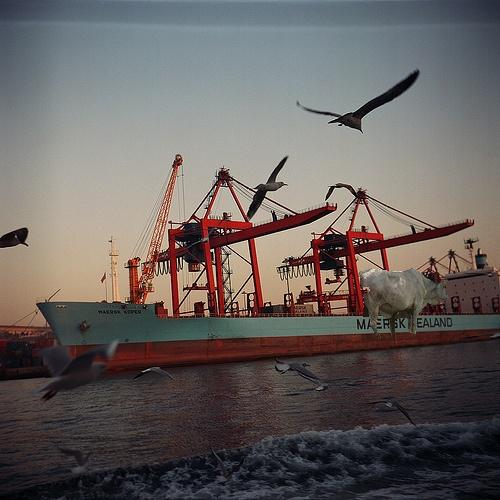tampered: (360, 269, 449, 339)
